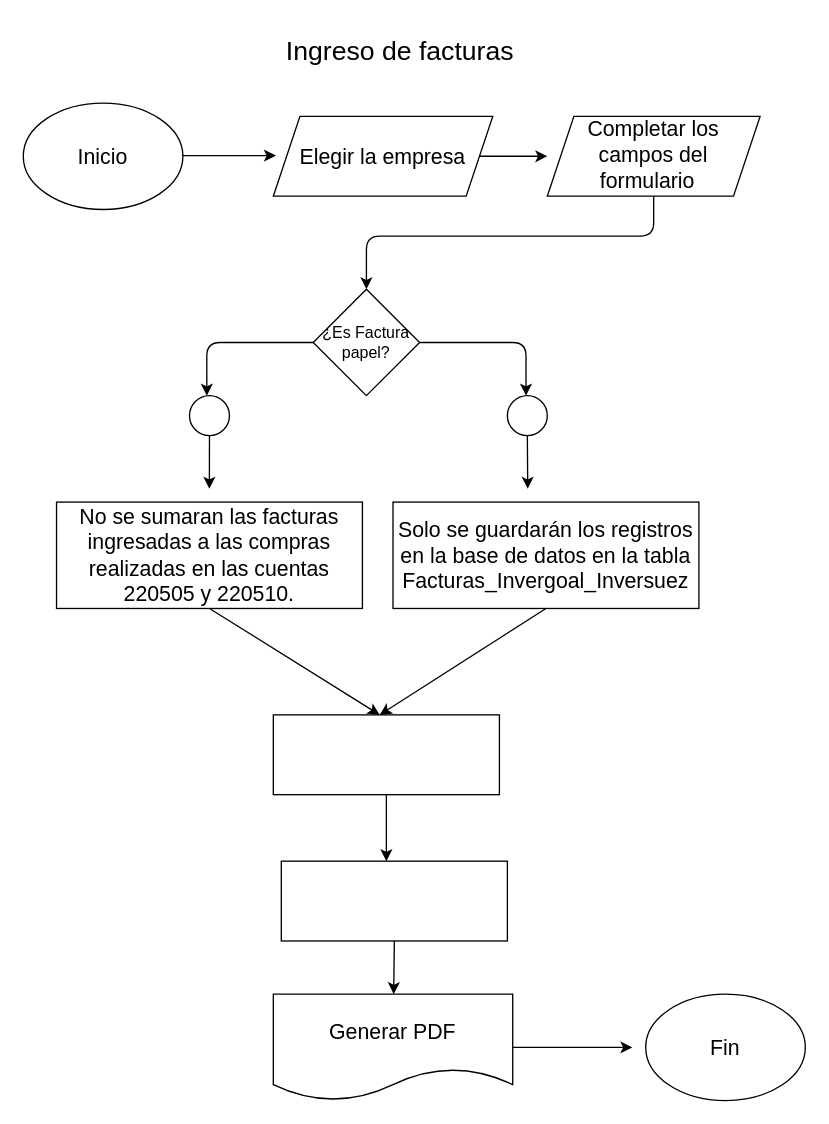
Image size: 829x1124. Some labels were removed from this diagram. Each missing label, with the centre of its shape:
Añadir facturas a la tabla: the point at 385,754
Crear entrada: the point at 393,900
No: the point at 526,415
Si: the point at 208,415
